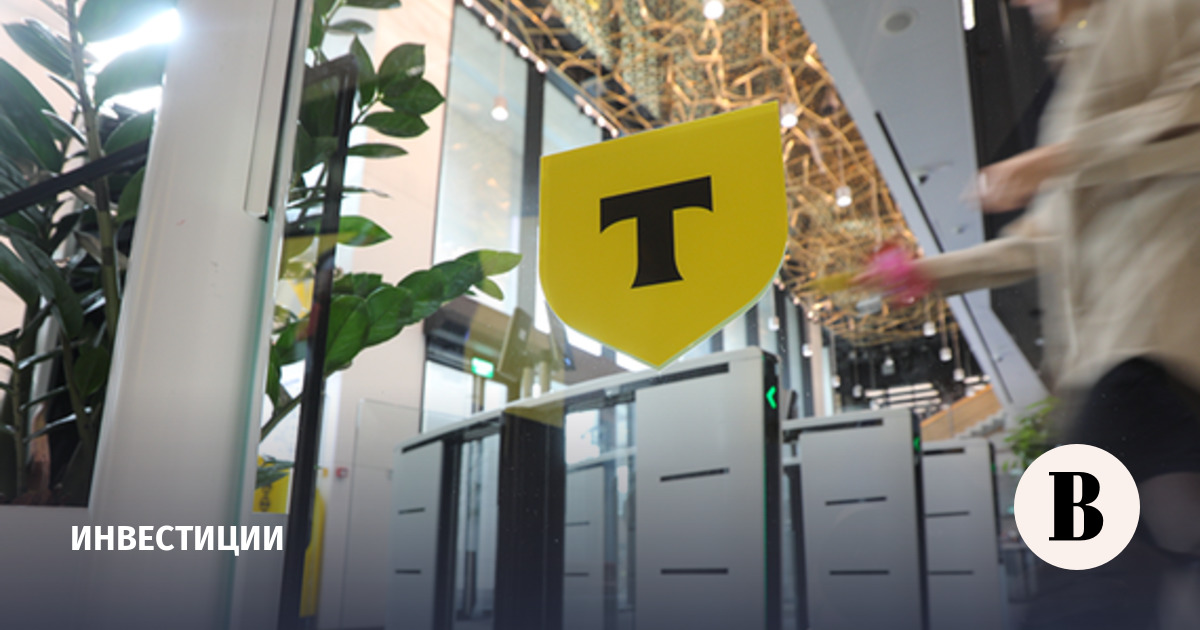TBank: (538, 99, 787, 370)
